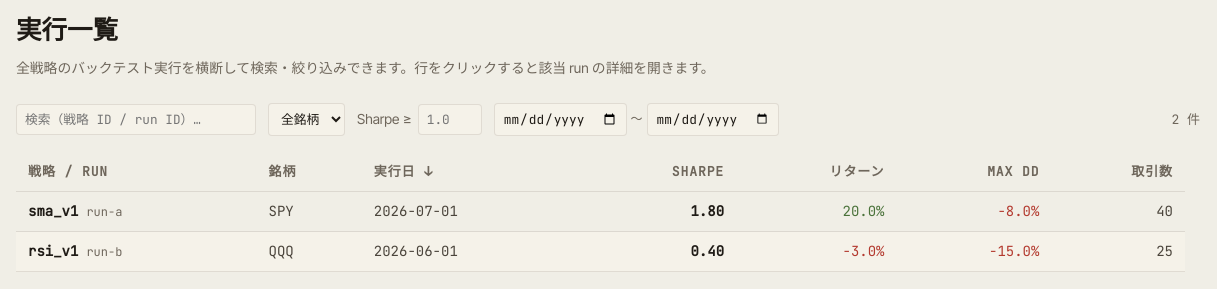
Test: RunsPage (issue #374) › Sharpe 下限で絞り込める
Expected: the link "sma_v1" is shown, [28, 202, 78, 220]
In the number field named "Sharpe 下限": (450, 120) [418, 104, 482, 135], type "1.5"
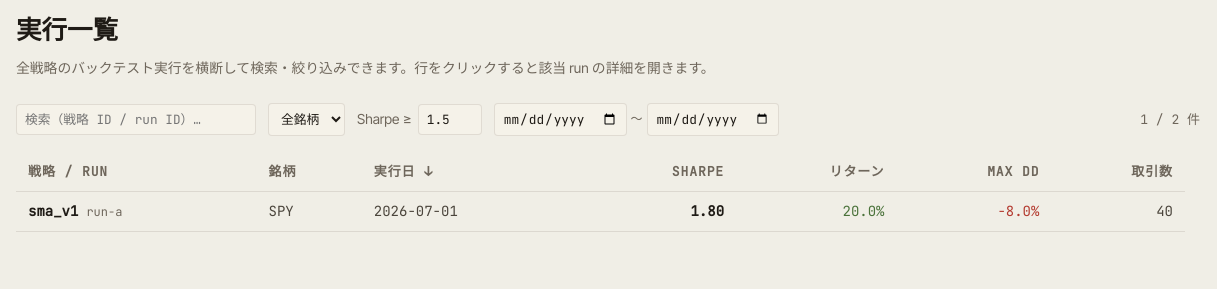
Expected: the link "sma_v1" is shown, [28, 202, 78, 220]
Expected: the link "rsi_v1" is gone
